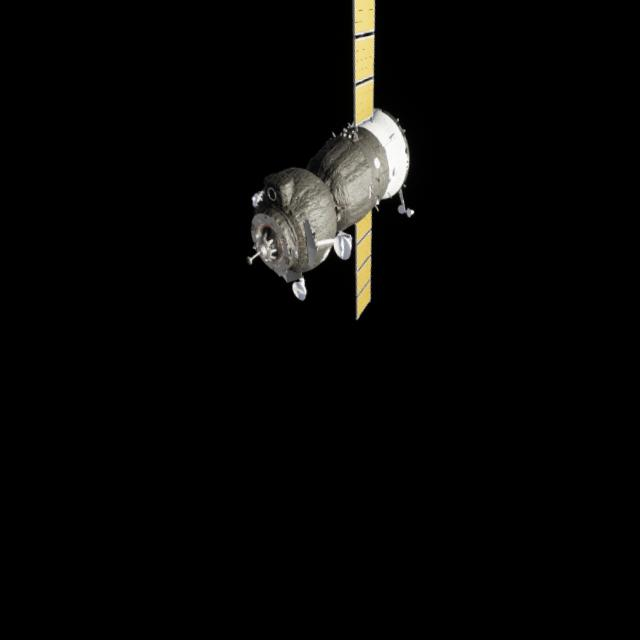Satellites revolving around earth: (202, 0, 439, 338)
